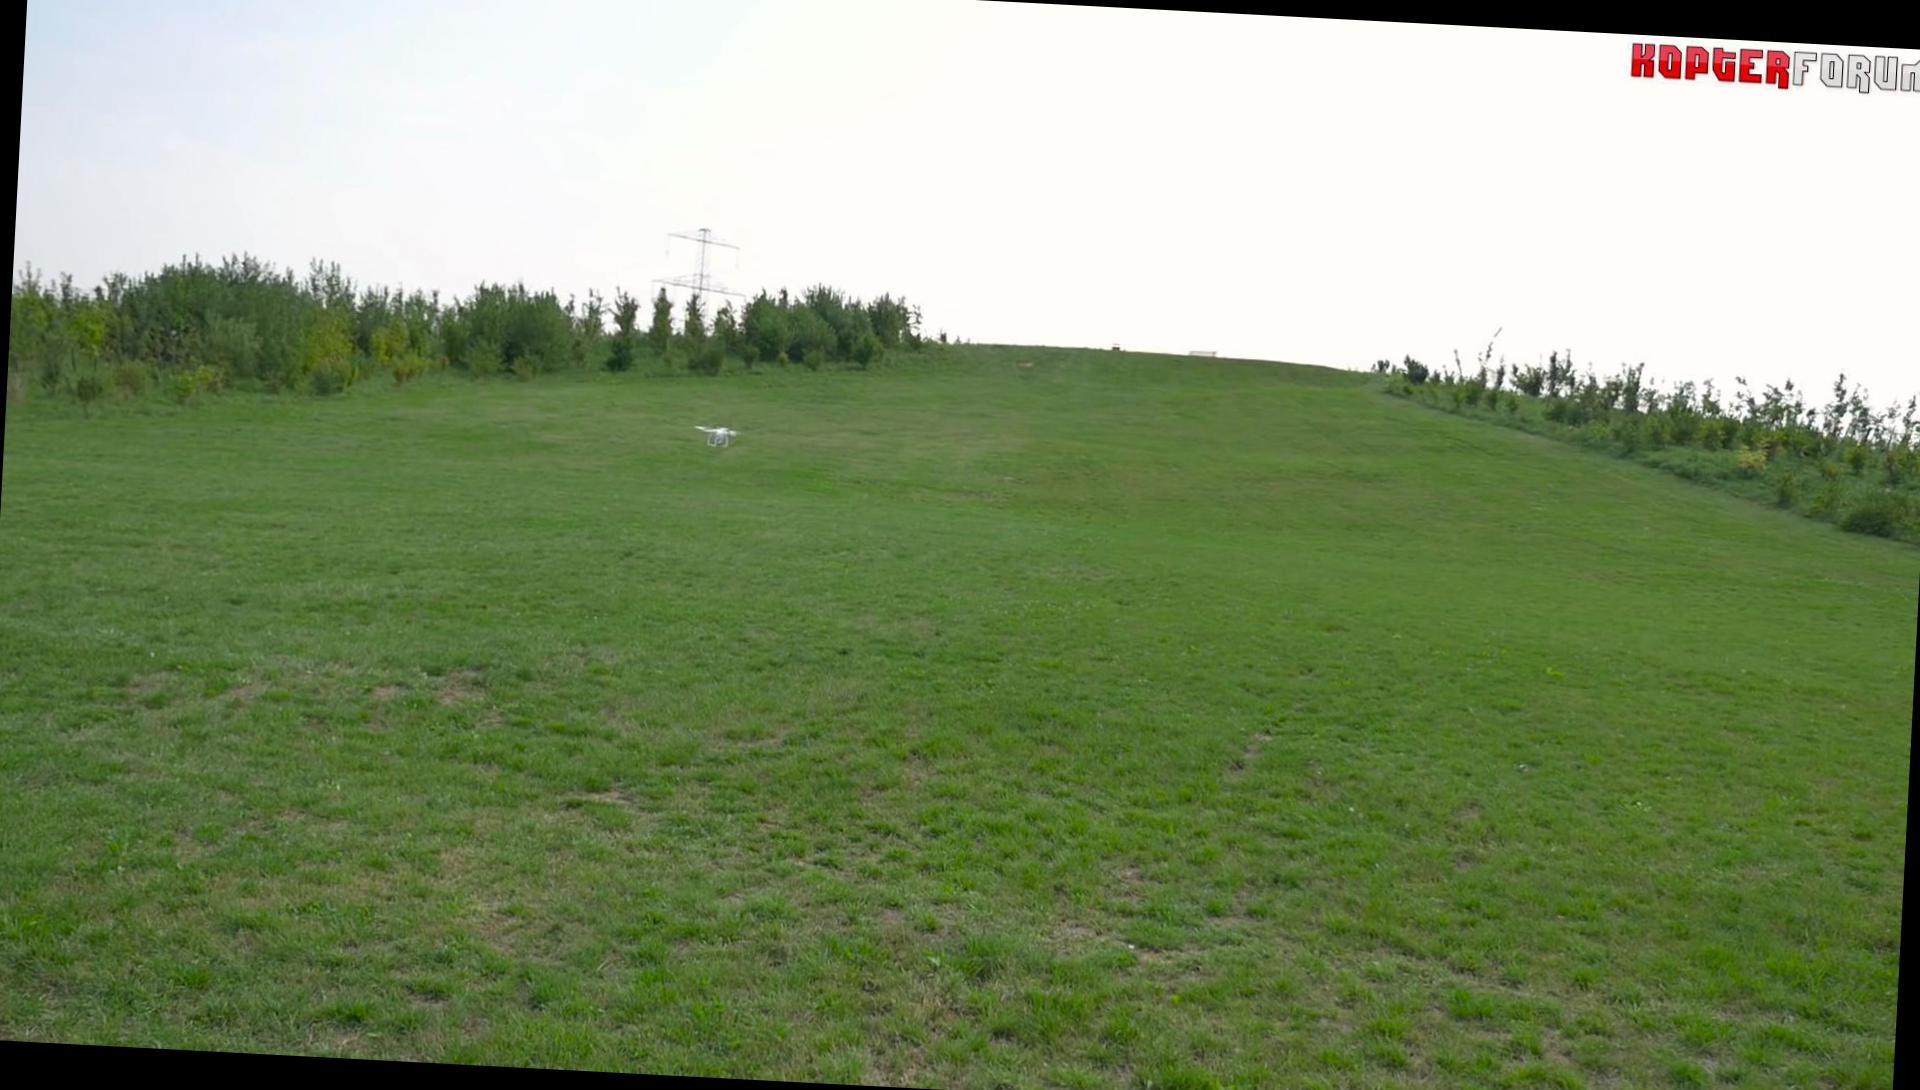drone: (694, 420, 744, 449)
